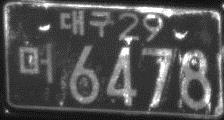2: (117, 12, 139, 40)
4: (105, 46, 137, 105)
6: (68, 44, 99, 104)
7: (140, 47, 173, 107)
8: (180, 49, 212, 109)
9: (142, 13, 164, 42)
대구_O: (59, 8, 113, 37)
머: (17, 42, 54, 84)
